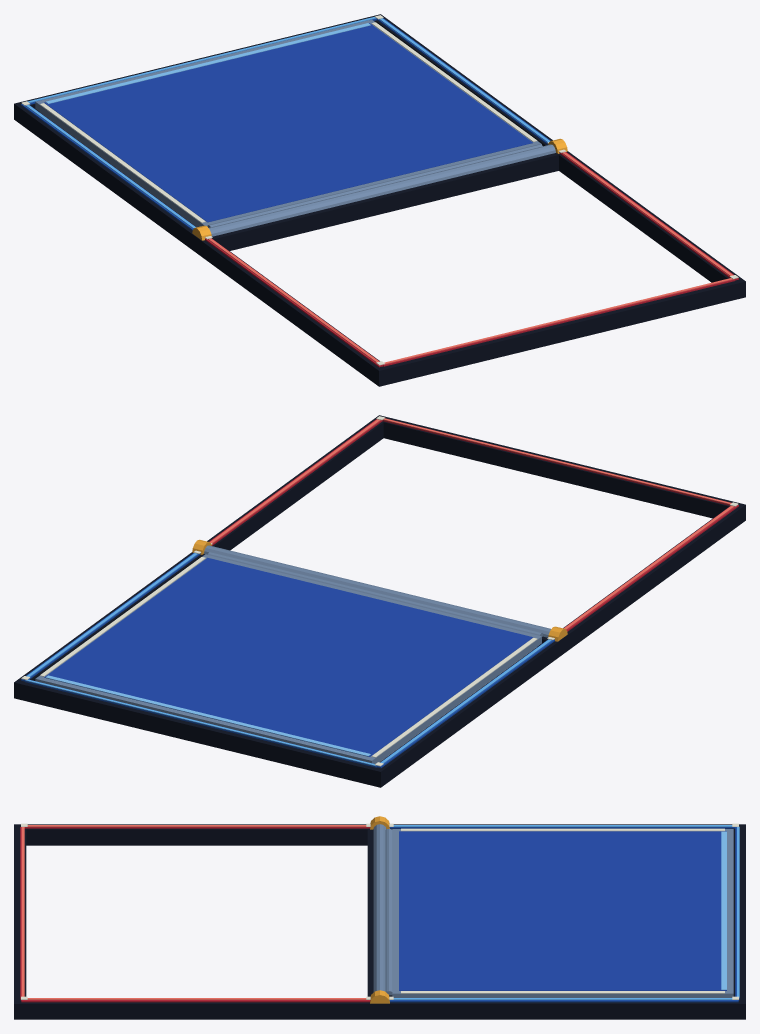
File: jump_flip_pair_blue_preview.obj
3 renders of one model, top to bottom at view 1: azimuth 30°, elevation 25°; view 2: azimuth 150°, elevation 25°; view 3: azimuth 270°, elevation 25°, orthographic.
Parts seen in each view (by area): view 1: blue_top, red_end_shell, red_side_shell, blue_side_shell, reversible_leaf, hinge_axle, red_border, red_rim_light, blue_rim_light, blue_side_trim, blue_border, blue_end_bar (+2 smaller); view 2: blue_top, red_side_shell, blue_end_shell, red_end_shell, blue_side_shell, reversible_leaf, blue_rim_light, hinge_axle, red_rim_light, blue_border, red_border, blue_side_trim (+2 smaller); view 3: blue_top, red_side_shell, blue_side_shell, reversible_leaf, red_end_shell, blue_side_trim, hinge_axle, red_border, blue_border, red_rim_light, blue_end_shell, blue_rim_light (+3 smaller).
Part boxes in pixels (x1,y1,x2,y2): blue_top: (44,23,532,222); red_end_shell: (196,153,745,386); red_side_shell: (196,151,745,386); blue_side_shell: (14,14,552,252); reversible_leaf: (35,19,541,226); hinge_axle: (209,144,555,236); red_border: (205,152,738,367); red_rim_light: (208,152,733,364); blue_rim_light: (25,17,549,228); blue_side_trim: (40,22,537,222); blue_border: (21,18,550,230); blue_end_bar: (46,23,370,103); blue_top: (44,557,533,756); red_side_shell: (207,415,745,653); blue_end_shell: (14,554,563,786); red_end_shell: (374,415,745,636); blue_side_shell: (14,552,563,787); reversible_leaf: (35,554,541,763); blue_rim_light: (25,553,551,766); hinge_axle: (204,545,550,637); red_rim_light: (210,418,734,629); blue_border: (21,553,554,768); red_border: (209,419,738,631); blue_side_trim: (40,557,537,757); blue_top: (399,831,726,990); red_side_shell: (14,824,379,1019); blue_side_shell: (380,824,745,1019); reversible_leaf: (392,829,733,997); red_end_shell: (14,824,379,1019); blue_side_trim: (401,828,724,993); hinge_axle: (373,824,386,992); red_border: (20,827,370,1002); blue_border: (389,827,739,1002); red_rim_light: (21,825,366,999); blue_end_shell: (380,824,745,1019); blue_rim_light: (393,825,739,999).
Size of the model in its own units: 11.6 by 0.74 by 20.
